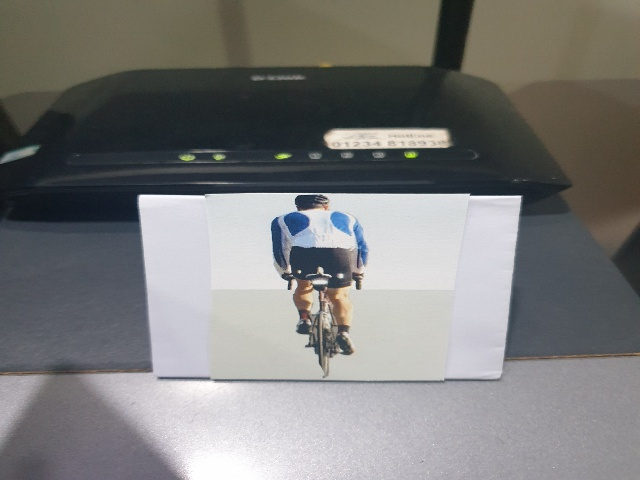Cyclist: (244, 194, 394, 381)
